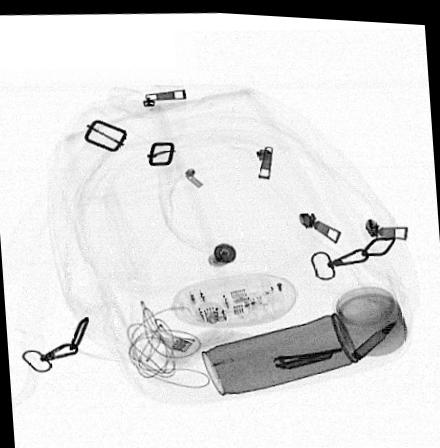Bullet: (349, 313, 399, 359)
